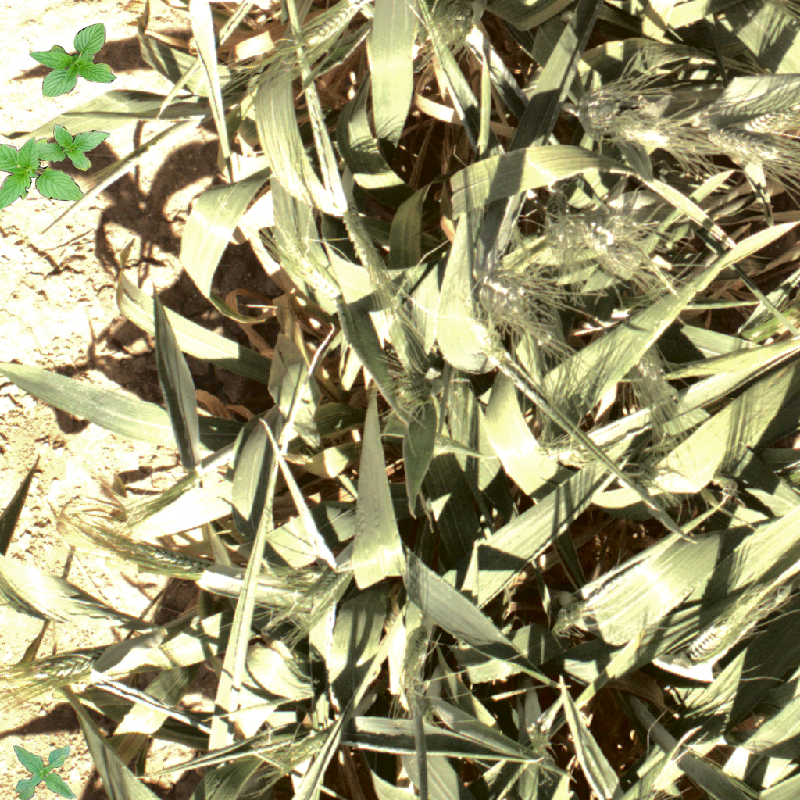spikelet: (539, 216, 648, 258), (1, 654, 96, 690), (301, 1, 366, 51), (135, 541, 210, 581), (705, 126, 780, 165), (715, 98, 800, 128)
weed: (1, 124, 110, 211), (29, 23, 117, 97), (13, 745, 77, 800)
